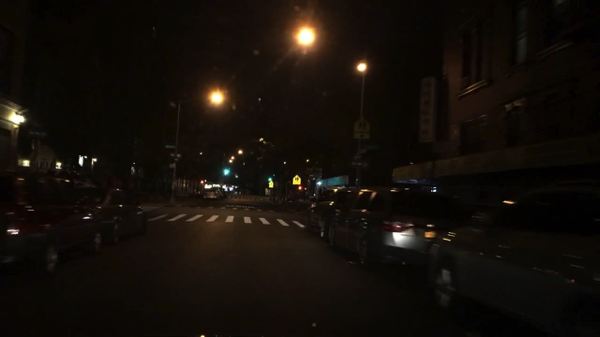car: (423, 187, 599, 337), (329, 186, 466, 269), (0, 169, 103, 275), (96, 187, 147, 247), (304, 190, 341, 241), (202, 189, 219, 199), (218, 188, 228, 198), (217, 190, 223, 198)
traffic light: (223, 169, 228, 176), (268, 176, 272, 182)
traffic sign: (353, 118, 370, 140), (292, 174, 301, 185), (30, 131, 46, 137), (351, 162, 369, 167), (171, 153, 183, 158), (362, 145, 379, 148), (169, 163, 176, 169), (357, 149, 366, 153), (165, 145, 176, 148), (268, 182, 273, 188), (354, 155, 359, 160)
